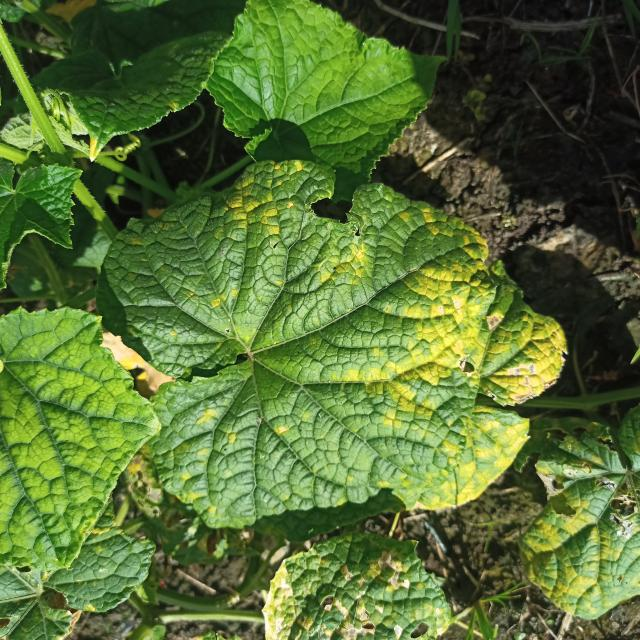disease_cucumber: (357, 166, 564, 509), (215, 162, 384, 297)
